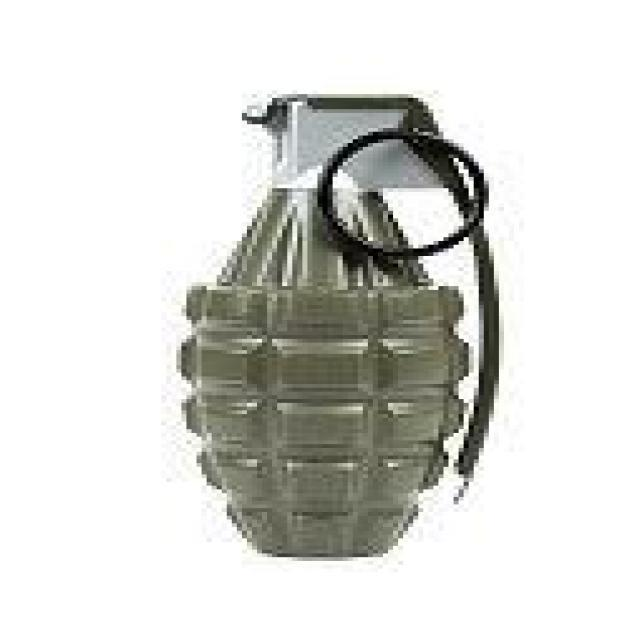Grenade: (171, 86, 499, 554)
